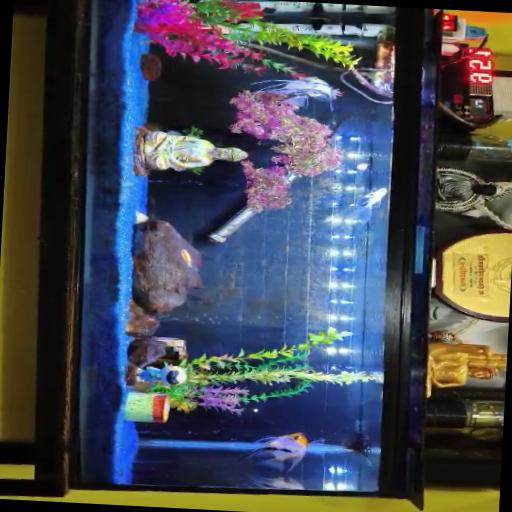Fish: (251, 76, 341, 109), (239, 431, 307, 472), (353, 187, 386, 222), (250, 476, 302, 489), (179, 248, 191, 266)
